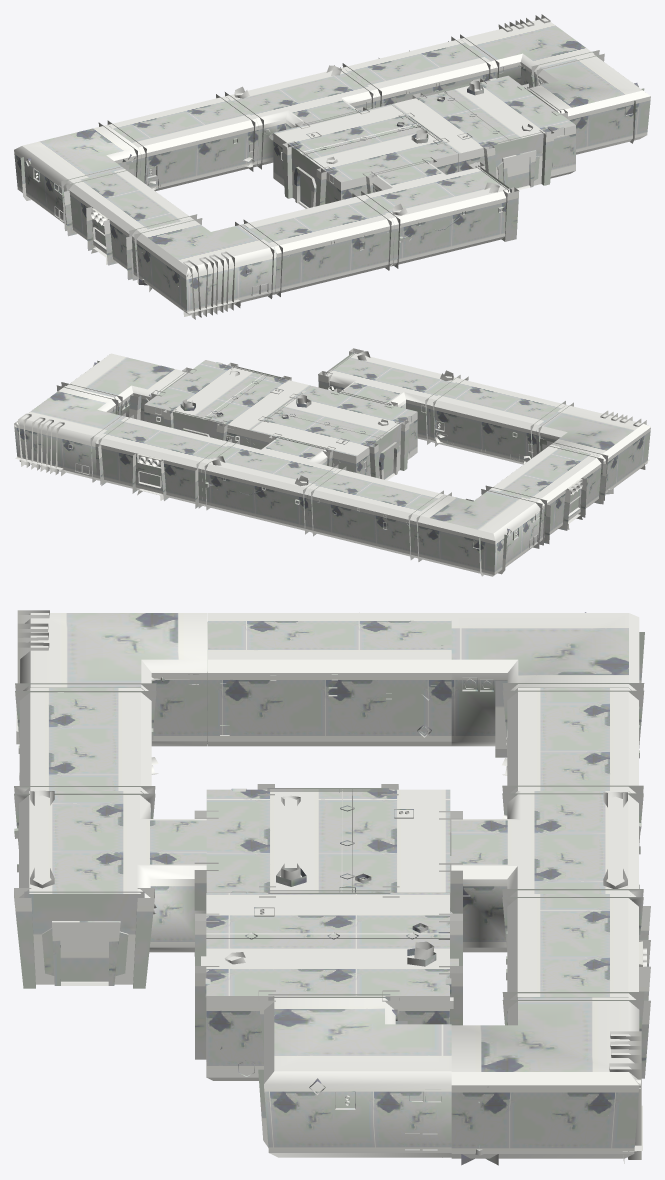
File: Combined_Mesh_root_scene__5_130fafea__zombies2_diffuse_11_814463c1_c1f257.obj
3 views of the same model, one above another, from view 1: azimuth 30°, elevation 25°; view 2: azimuth 150°, elevation 25°; view 3: azimuth 270°, elevation 25° (orthographic). The views are drawn at different scales.
Bounding box in the file's own units: 92.31 × 9.64 × 52.29.
Materials: 179 (179 with a texture image).
